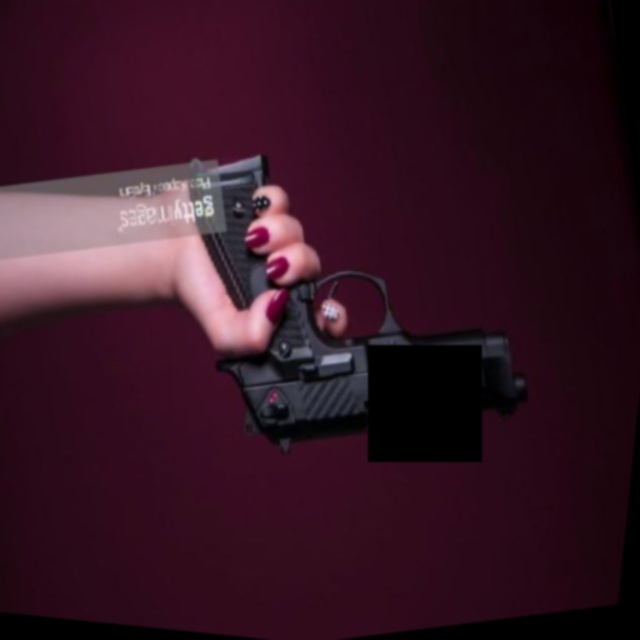gun: (125, 86, 566, 501)
